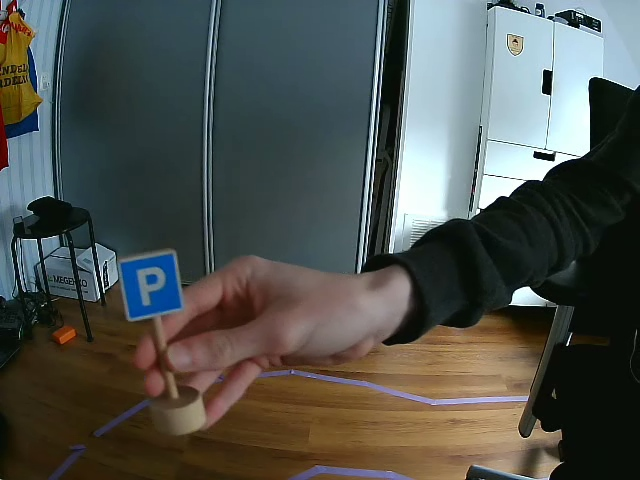parkeerbord: (120, 248, 184, 322)
